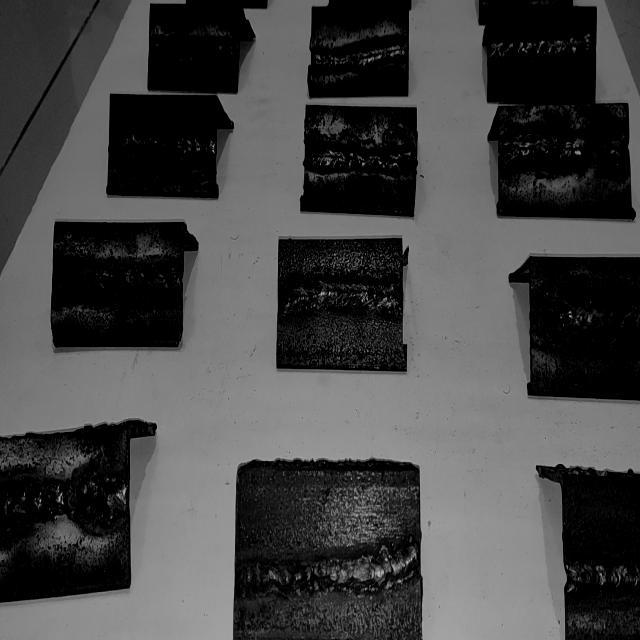Defect: (112, 134, 214, 164), (56, 470, 94, 526), (52, 254, 94, 304), (534, 292, 572, 344), (576, 128, 616, 175), (150, 30, 194, 63), (391, 143, 418, 180)
Welding Line: (235, 534, 418, 600), (2, 476, 126, 534), (278, 276, 402, 318), (53, 260, 184, 298), (531, 294, 640, 339), (500, 133, 630, 170), (310, 32, 408, 74), (306, 143, 416, 175), (490, 29, 596, 62), (109, 133, 216, 163), (567, 559, 640, 594), (150, 34, 239, 60)
Workpiece: (228, 470, 423, 640), (0, 422, 134, 604), (276, 234, 407, 374), (50, 220, 187, 352), (529, 261, 640, 401), (496, 104, 630, 216), (300, 102, 418, 218), (561, 471, 640, 640), (106, 96, 220, 198), (486, 8, 596, 103), (306, 4, 412, 94), (147, 0, 242, 92)
